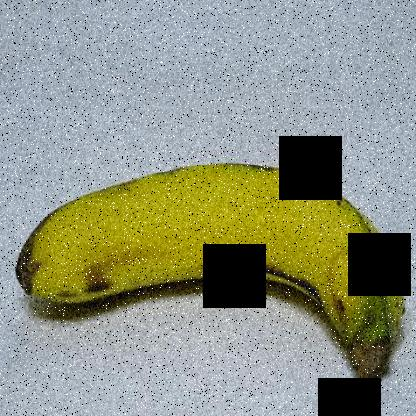freshripe: (8, 152, 415, 410)
